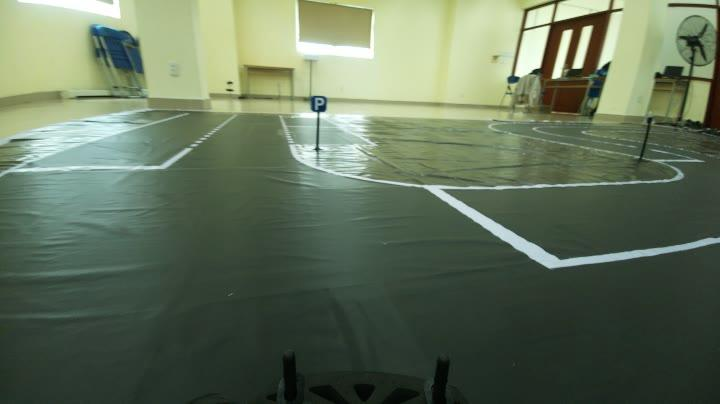parking: (308, 91, 328, 121)
